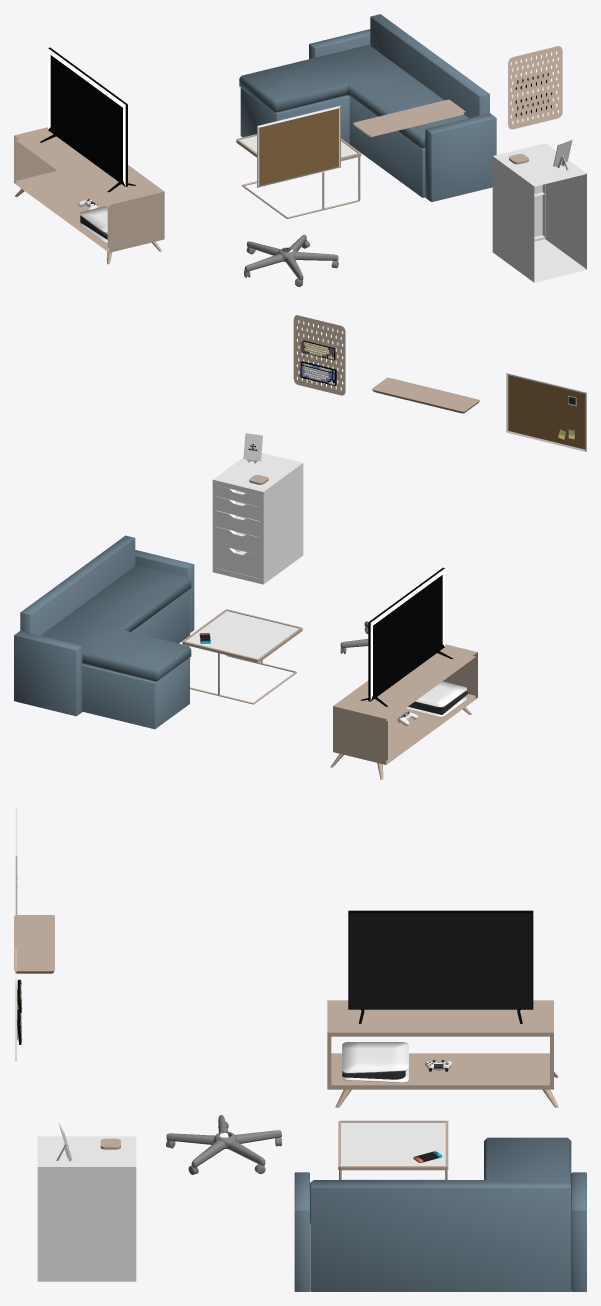
File: staticsElements.glb
The picture shows the model from 3 angles, top to bottom: view 1: azimuth 30°, elevation 25°; view 2: azimuth 150°, elevation 25°; view 3: azimuth 270°, elevation 25°; orthographic projection. The views are drawn at different scales.
Parts seen in each view (by area): view 1: Sofa, IkeaDrawer, TvTable, TV, CorkBoard, Skadils, TrophiesShelf, Office chair Base, CoffeeTable, Ps5, Present; view 2: Sofa, IkeaDrawer, TvTable, TV, CorkBoard, CoffeeTable, Skadils, TrophiesShelf, Ps5, KeyboardBlue; view 3: Sofa, TV, IkeaDrawer, TvTable, CoffeeTable, Ps5, TrophiesShelf, Office chair Base.
Part boxes in pixels (bbox=[...]): Sofa: bbox=[239, 14, 496, 201]; IkeaDrawer: bbox=[492, 143, 586, 282]; TvTable: bbox=[14, 127, 164, 264]; TV: bbox=[40, 47, 135, 192]; CorkBoard: bbox=[257, 106, 340, 187]; Skadils: bbox=[508, 46, 562, 129]; TrophiesShelf: bbox=[353, 99, 465, 136]; Office chair Base: bbox=[244, 234, 338, 286]; CoffeeTable: bbox=[236, 134, 361, 218]; Ps5: bbox=[80, 206, 107, 243]; Present: bbox=[553, 139, 572, 170]; Sofa: bbox=[14, 535, 194, 729]; IkeaDrawer: bbox=[212, 453, 303, 584]; TvTable: bbox=[330, 644, 477, 779]; TV: bbox=[360, 567, 452, 706]; CorkBoard: bbox=[506, 373, 586, 451]; CoffeeTable: bbox=[182, 609, 302, 704]; Skadils: bbox=[293, 315, 345, 395]; TrophiesShelf: bbox=[372, 377, 479, 413]; Ps5: bbox=[405, 681, 467, 717]; KeyboardBlue: bbox=[300, 361, 336, 385]; Sofa: bbox=[294, 1137, 586, 1291]; TV: bbox=[348, 910, 533, 1023]; IkeaDrawer: bbox=[37, 1136, 136, 1281]; TvTable: bbox=[327, 1000, 558, 1107]; CoffeeTable: bbox=[338, 1120, 448, 1179]; Ps5: bbox=[342, 1042, 408, 1082]; TrophiesShelf: bbox=[14, 915, 54, 973]; Office chair Base: bbox=[166, 1115, 281, 1174].
Size of the model in its own units: 2.95 by 1.81 by 3.28.
